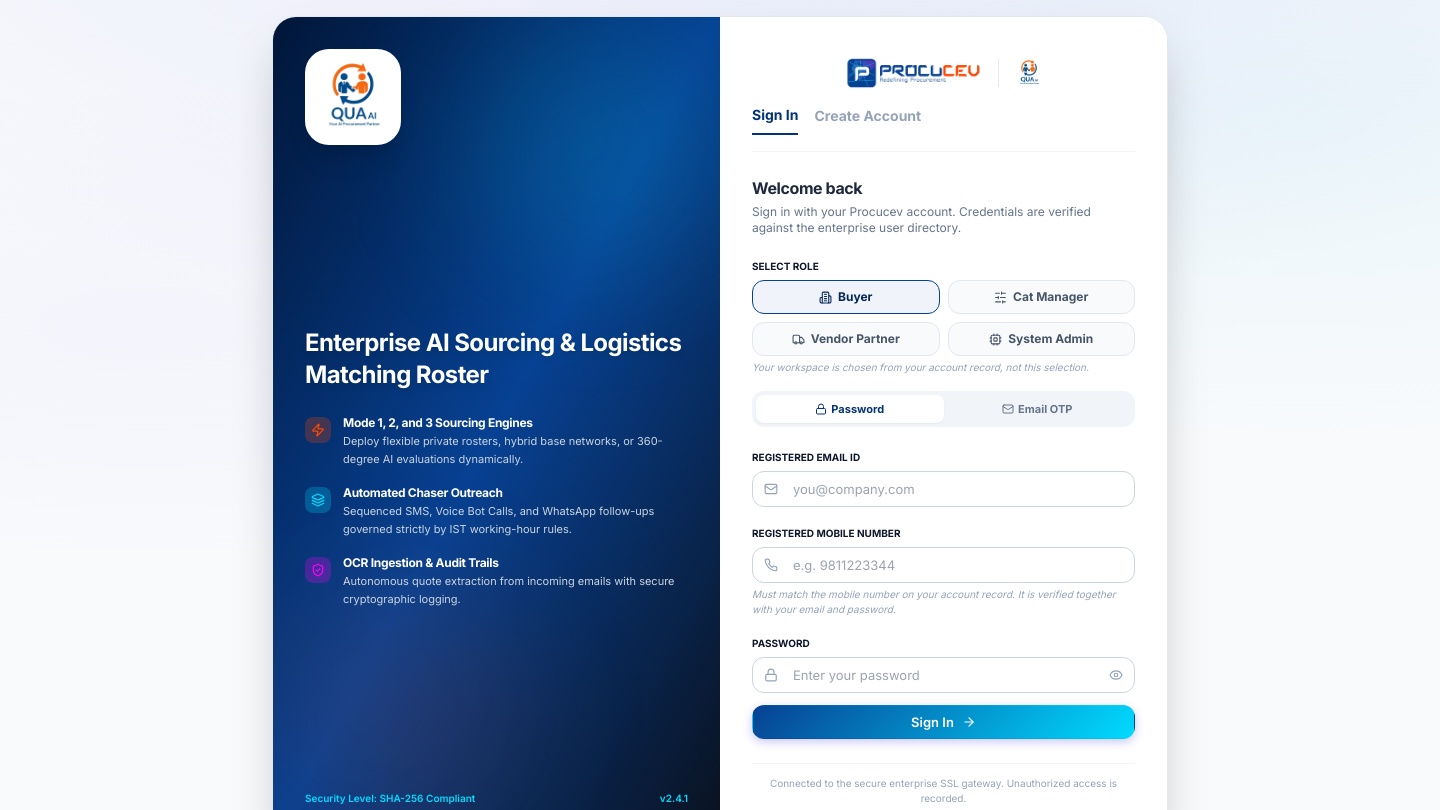
Scenario: LoginPage › email OTP sign-in › returns to the email step from the code step
The image size is (1440, 810).
Click the button "Email OTP" at {"x": 1037, "y": 409}, box x1=944 y1=395 x2=1131 y2=423
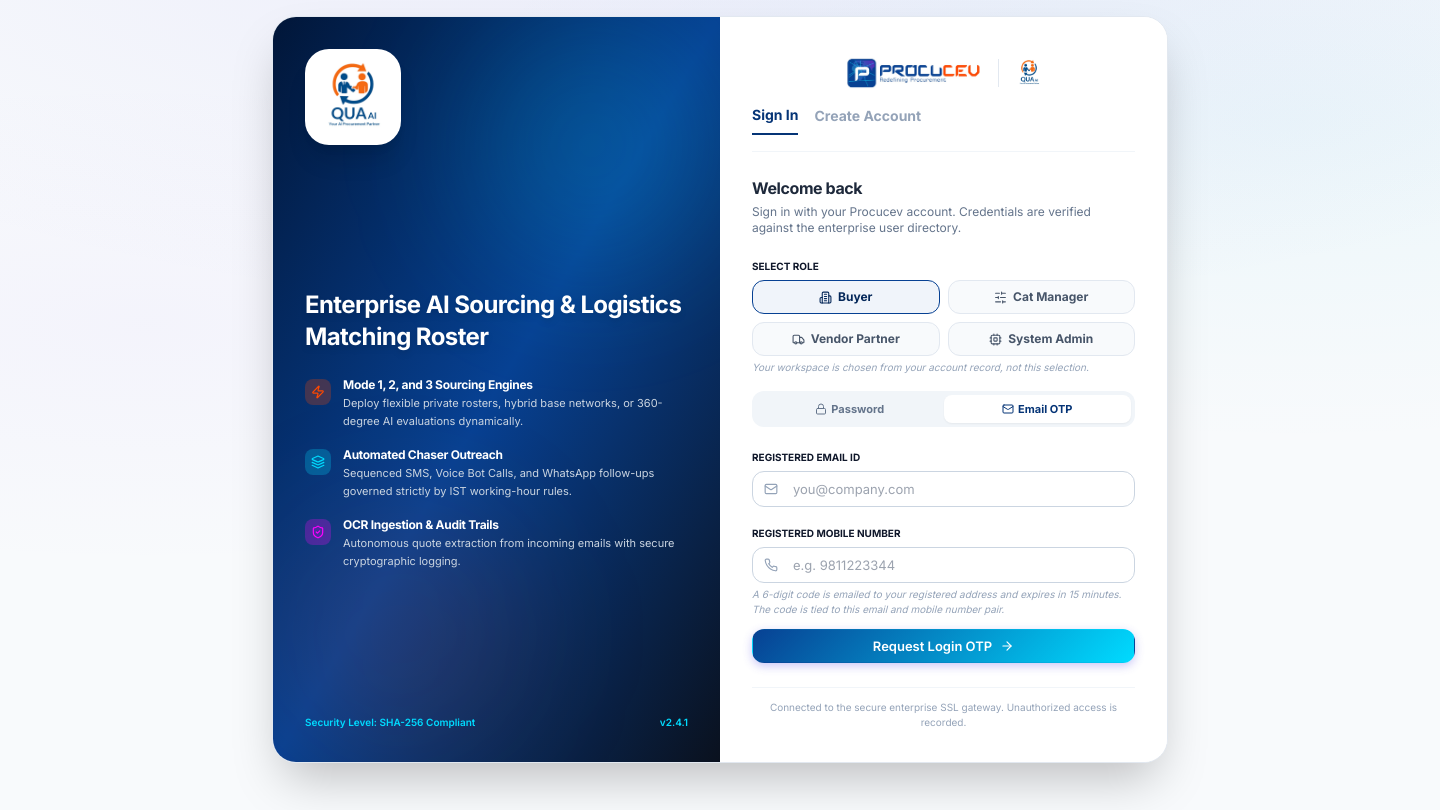
Type "navinchaudhary.dev@gmail.com" into the field labelled "Registered Email ID" at {"x": 944, "y": 489}, box x1=752 y1=471 x2=1135 y2=507
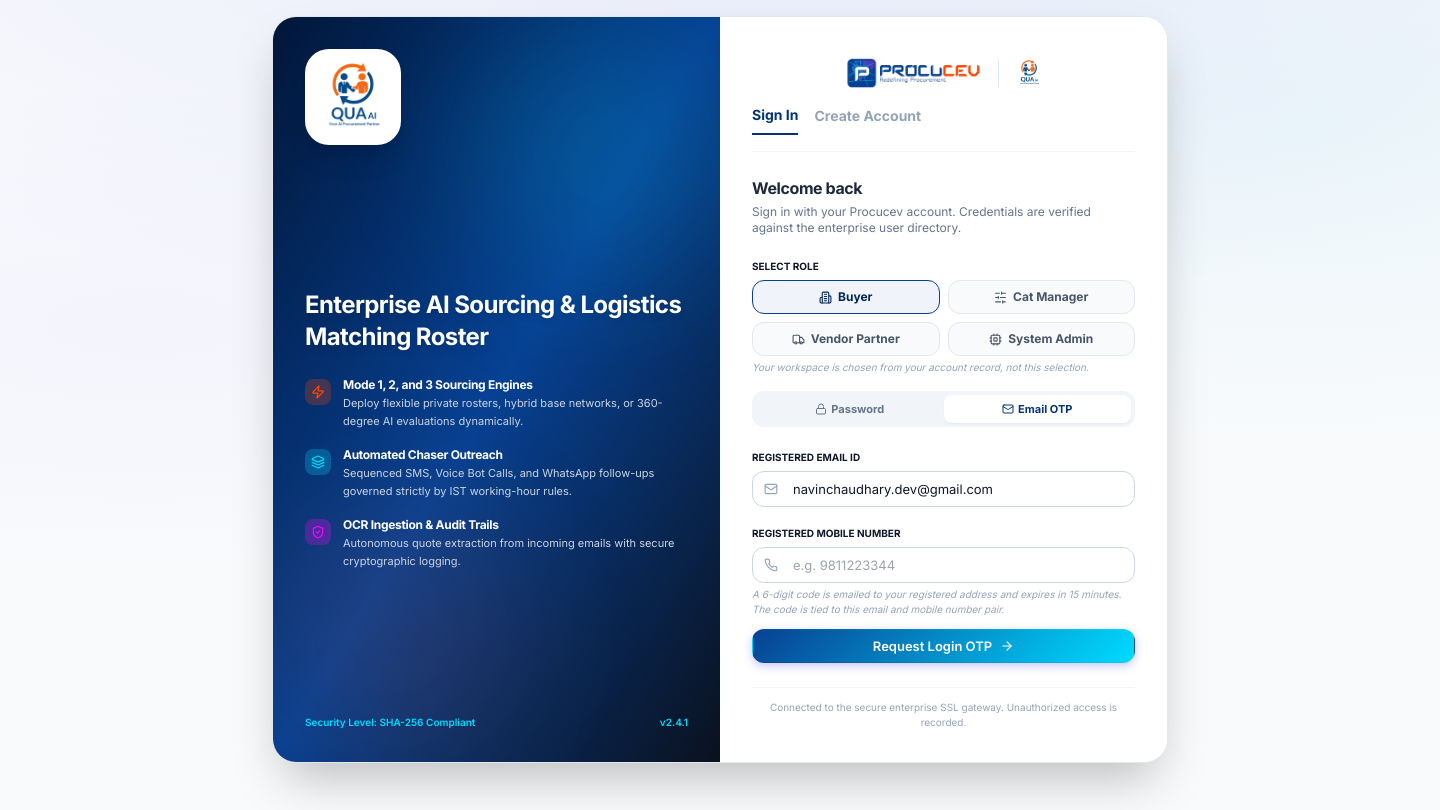
Type "9157154504" into the field labelled "Registered Mobile Number" at {"x": 944, "y": 565}, box x1=752 y1=547 x2=1135 y2=583
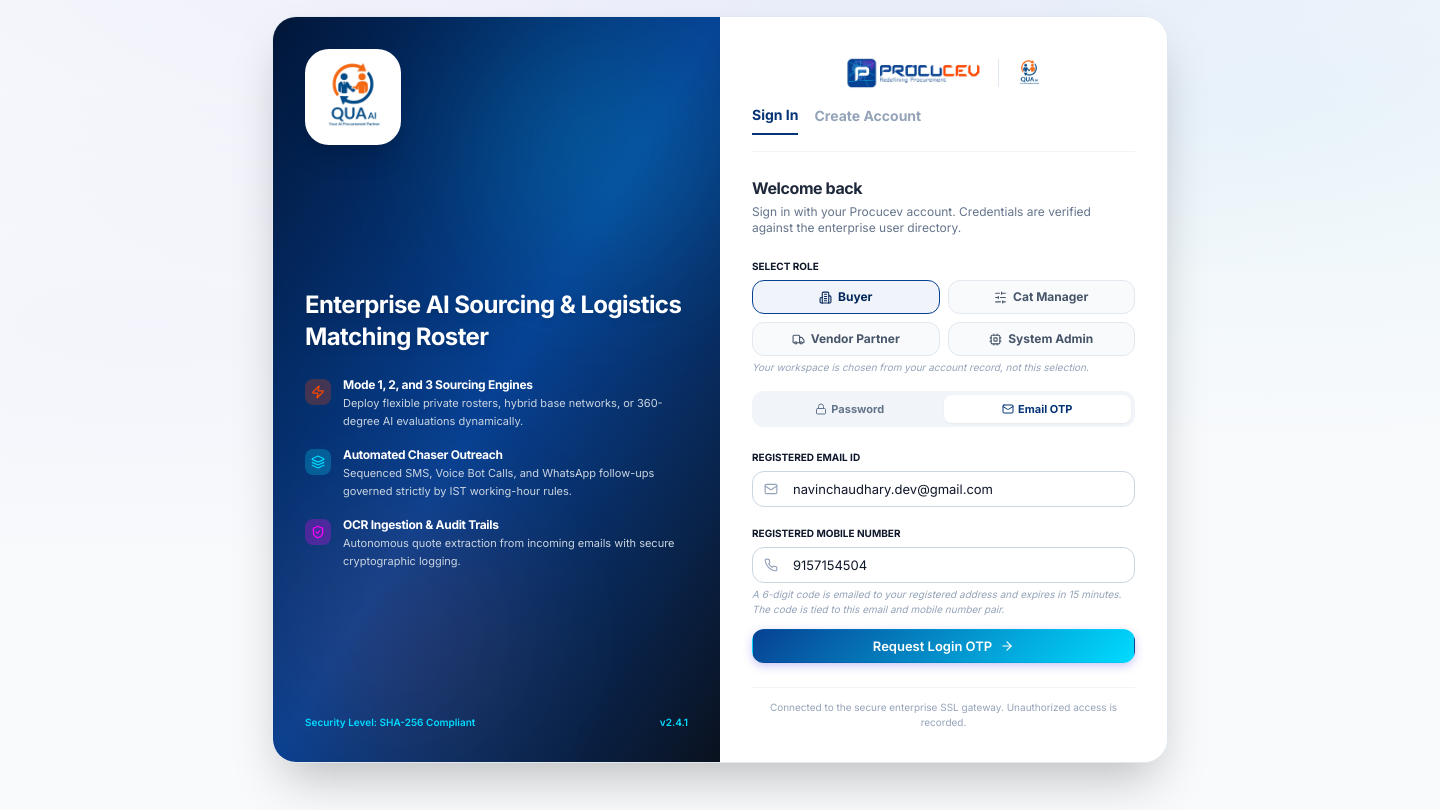
Click the button "Request Login OTP" at {"x": 944, "y": 646}, box x1=752 y1=629 x2=1135 y2=663
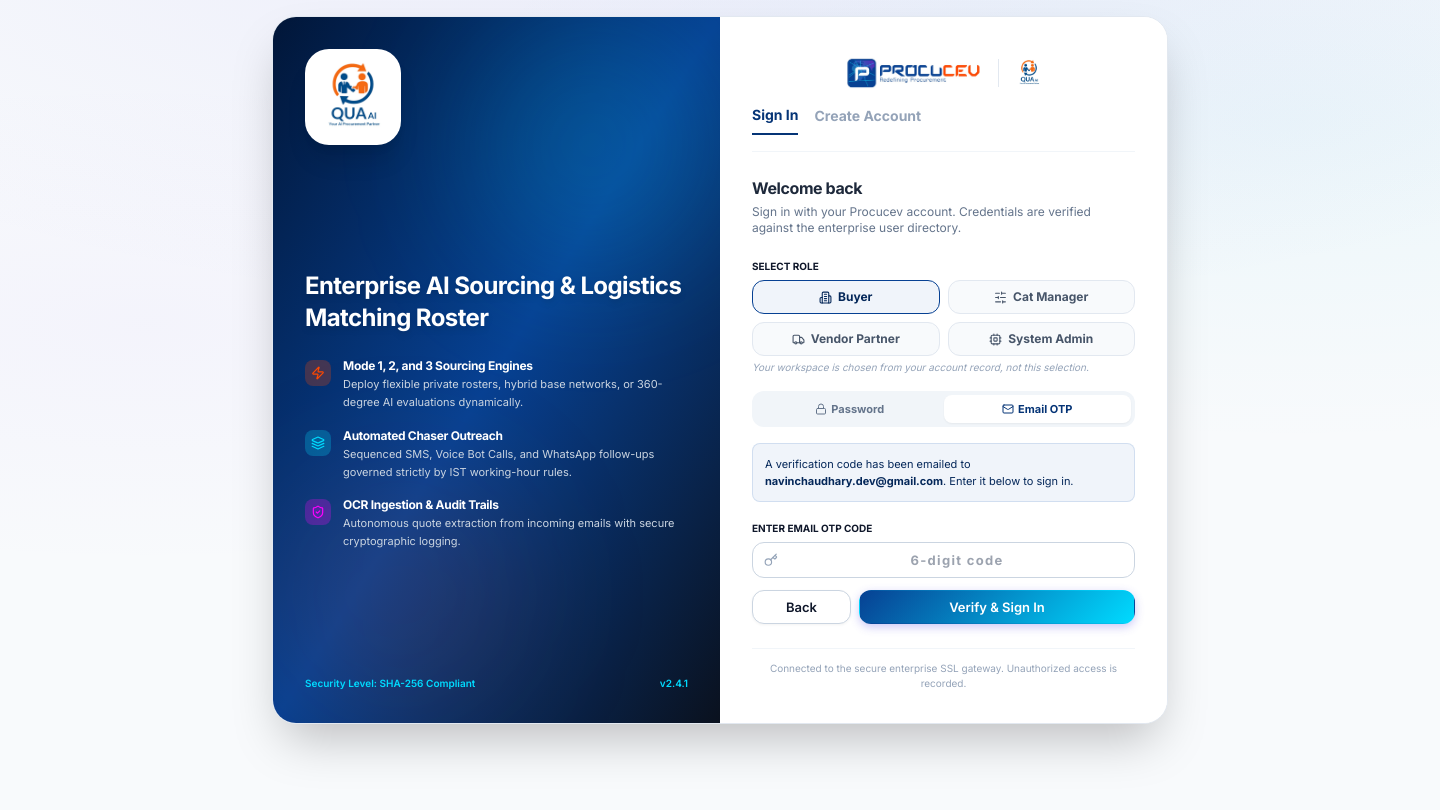
Expected: the field labelled "Enter Email OTP Code" is shown, x1=752 y1=542 x2=1135 y2=578
Click the button "Back" at {"x": 802, "y": 607}, box x1=752 y1=590 x2=851 y2=624
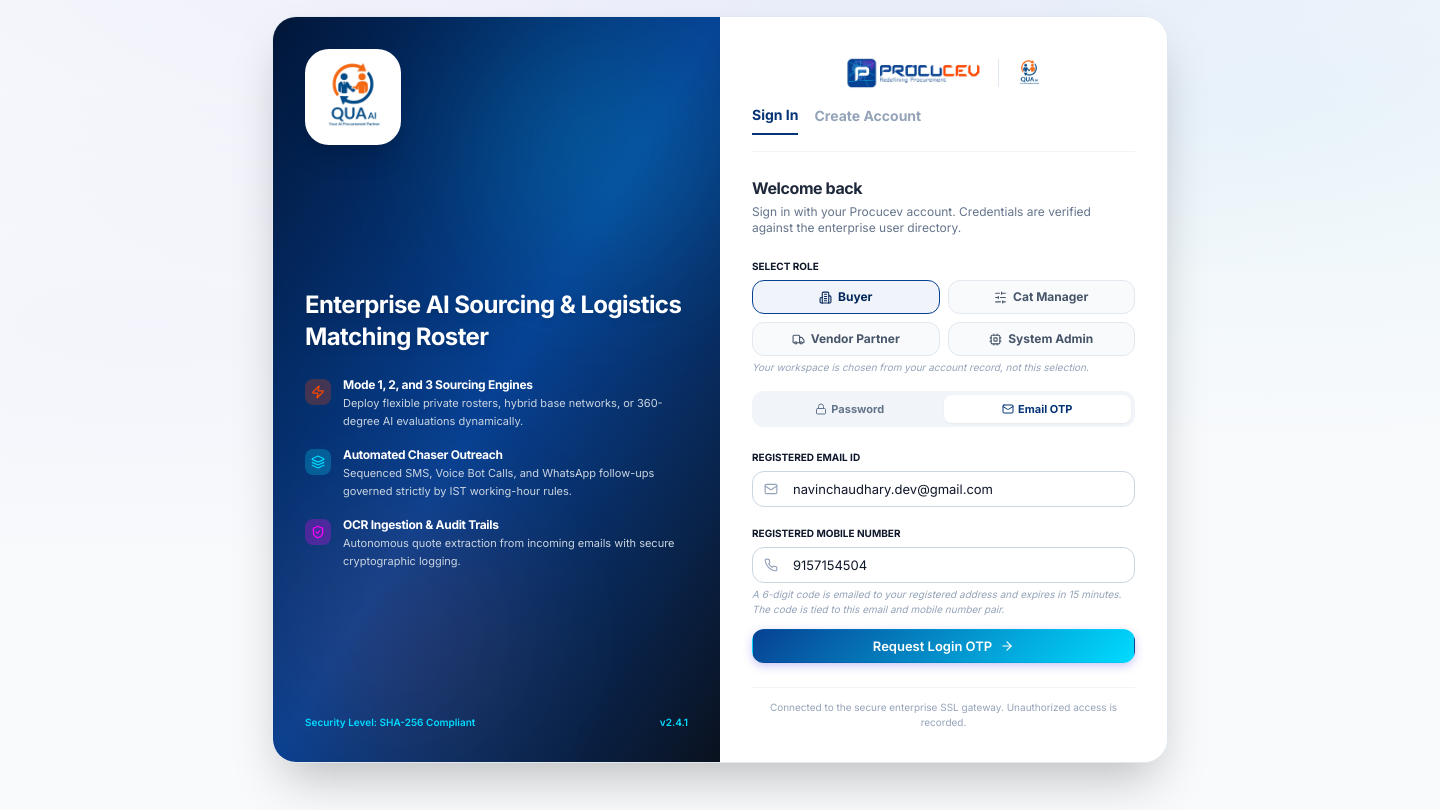
Expected: the button "Request Login OTP" is shown, x1=752 y1=629 x2=1135 y2=663
